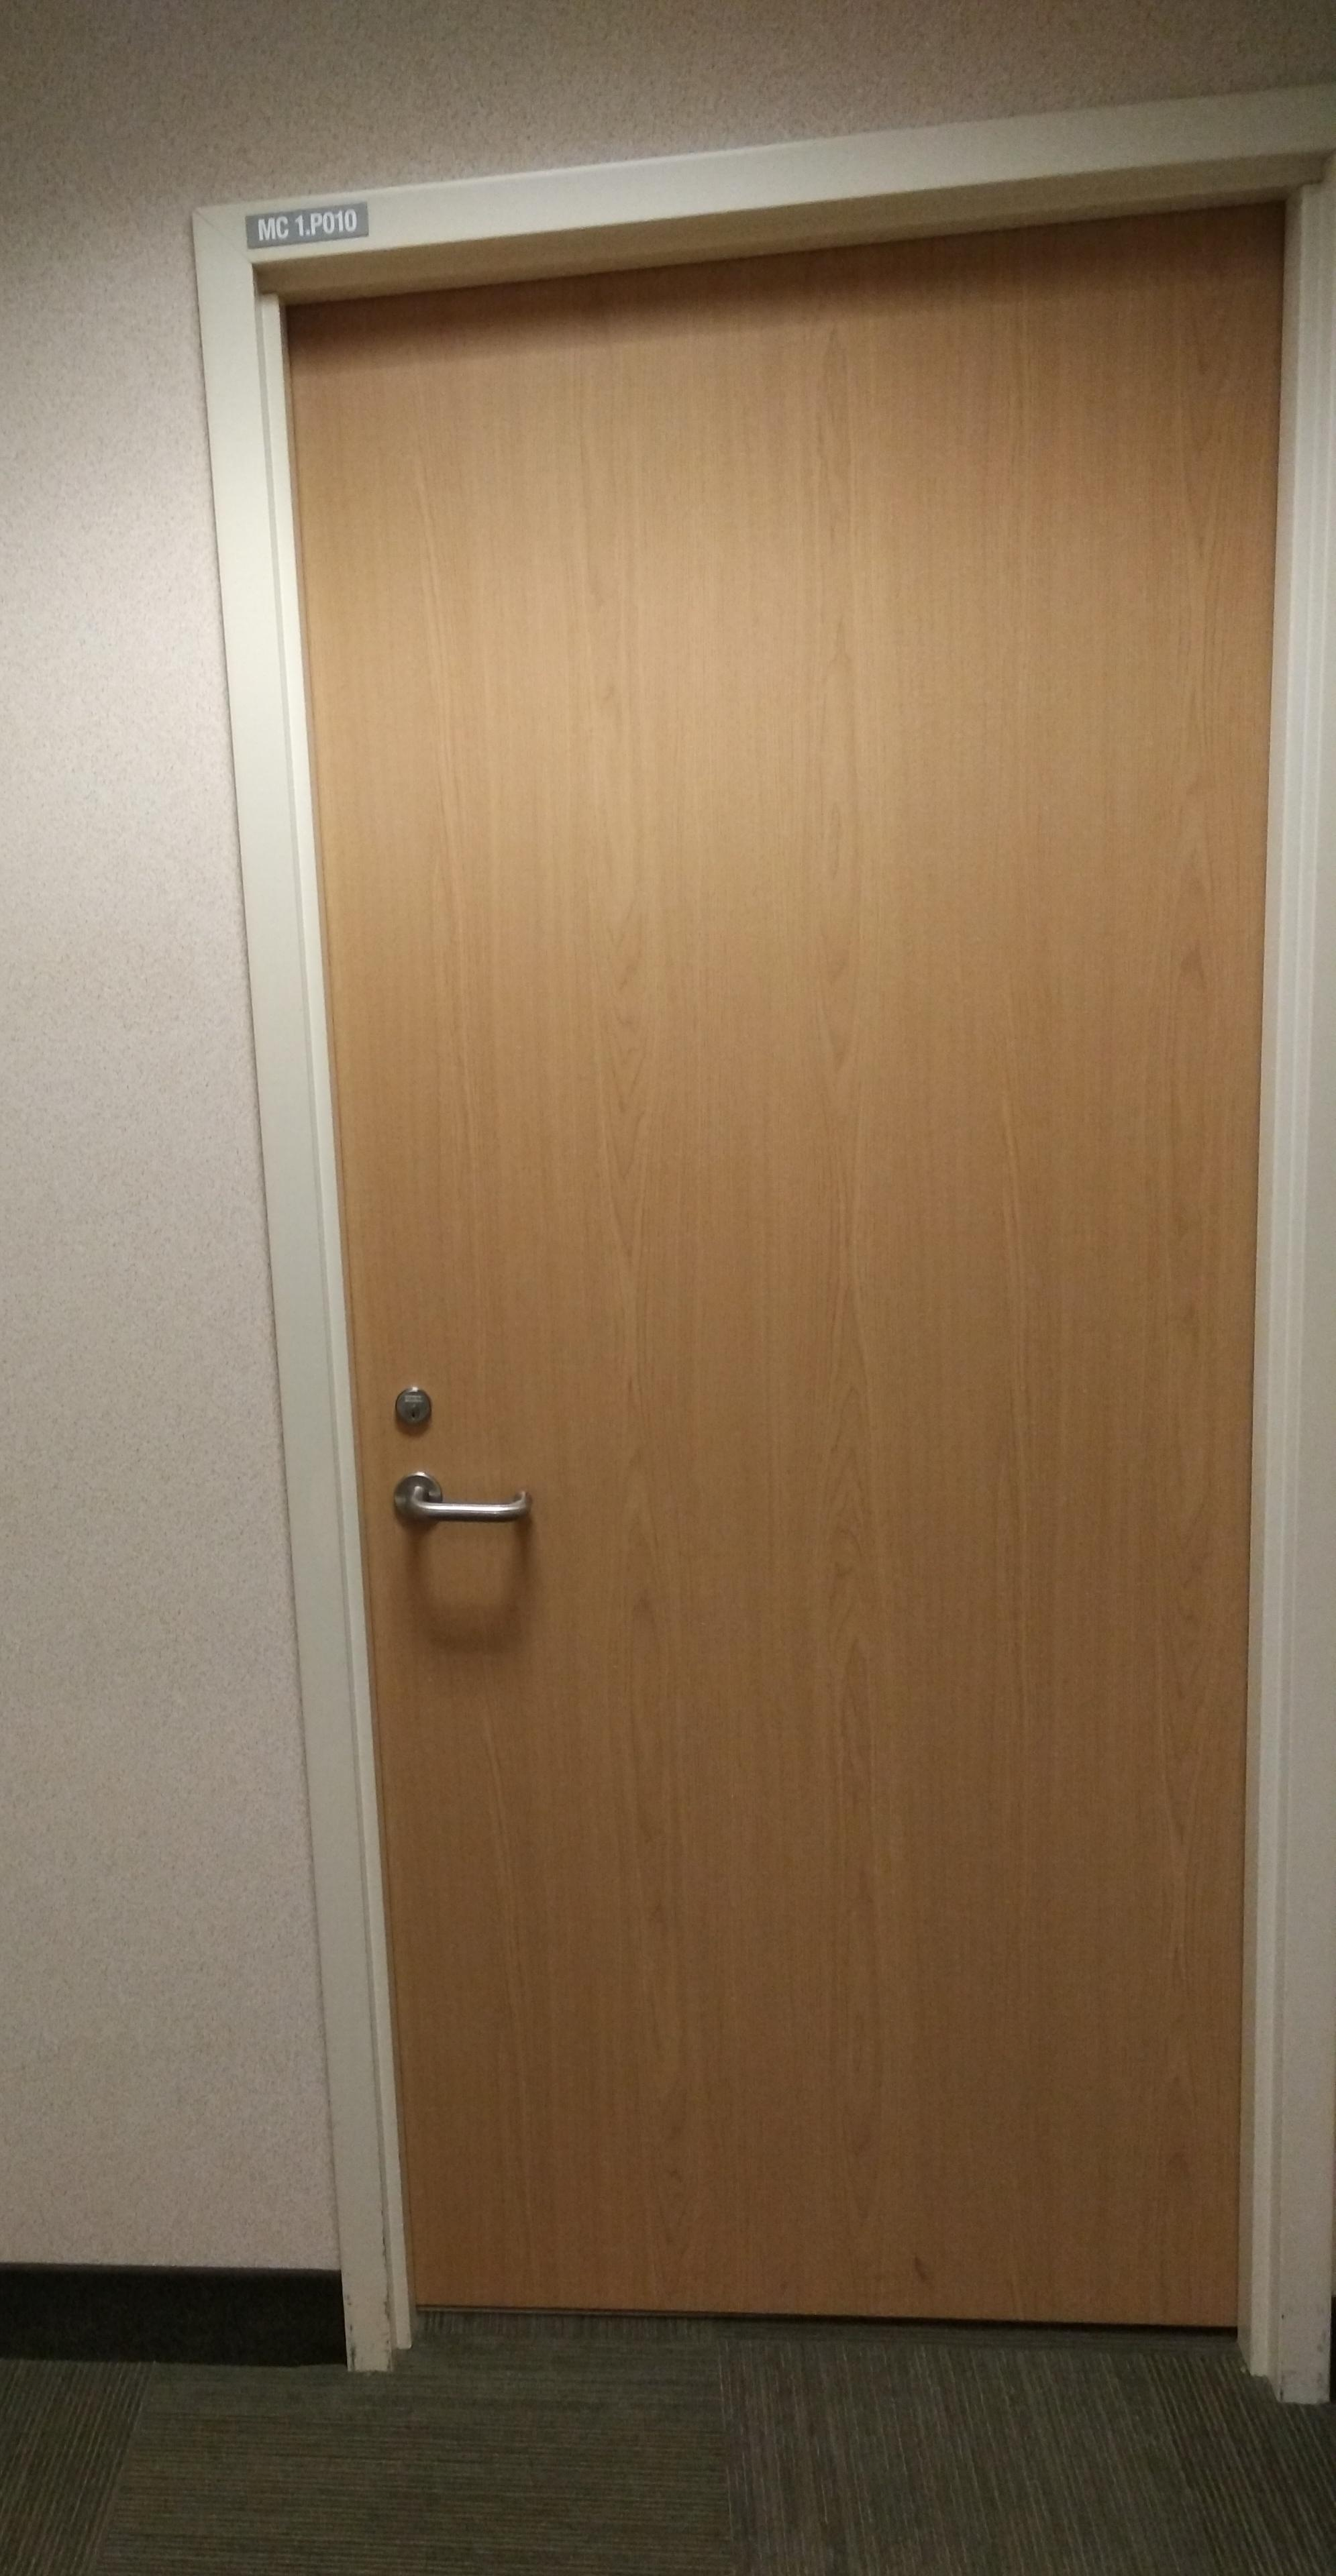door: (233, 174, 1307, 2368)
